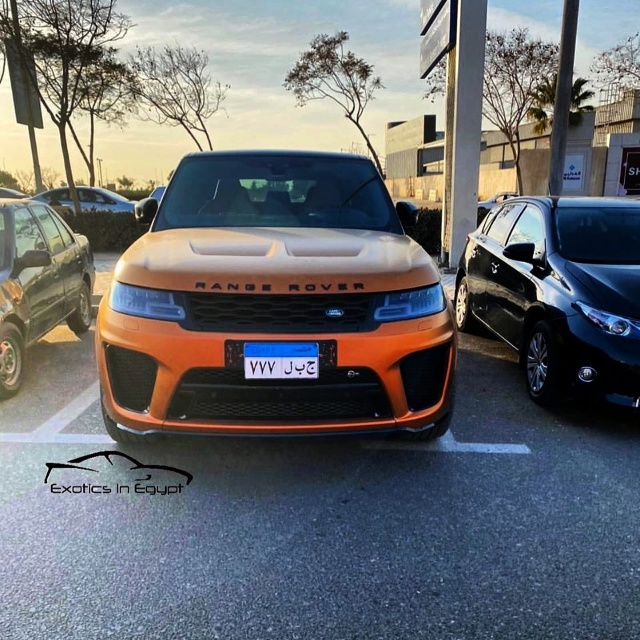License Plate: (241, 340, 321, 381)
